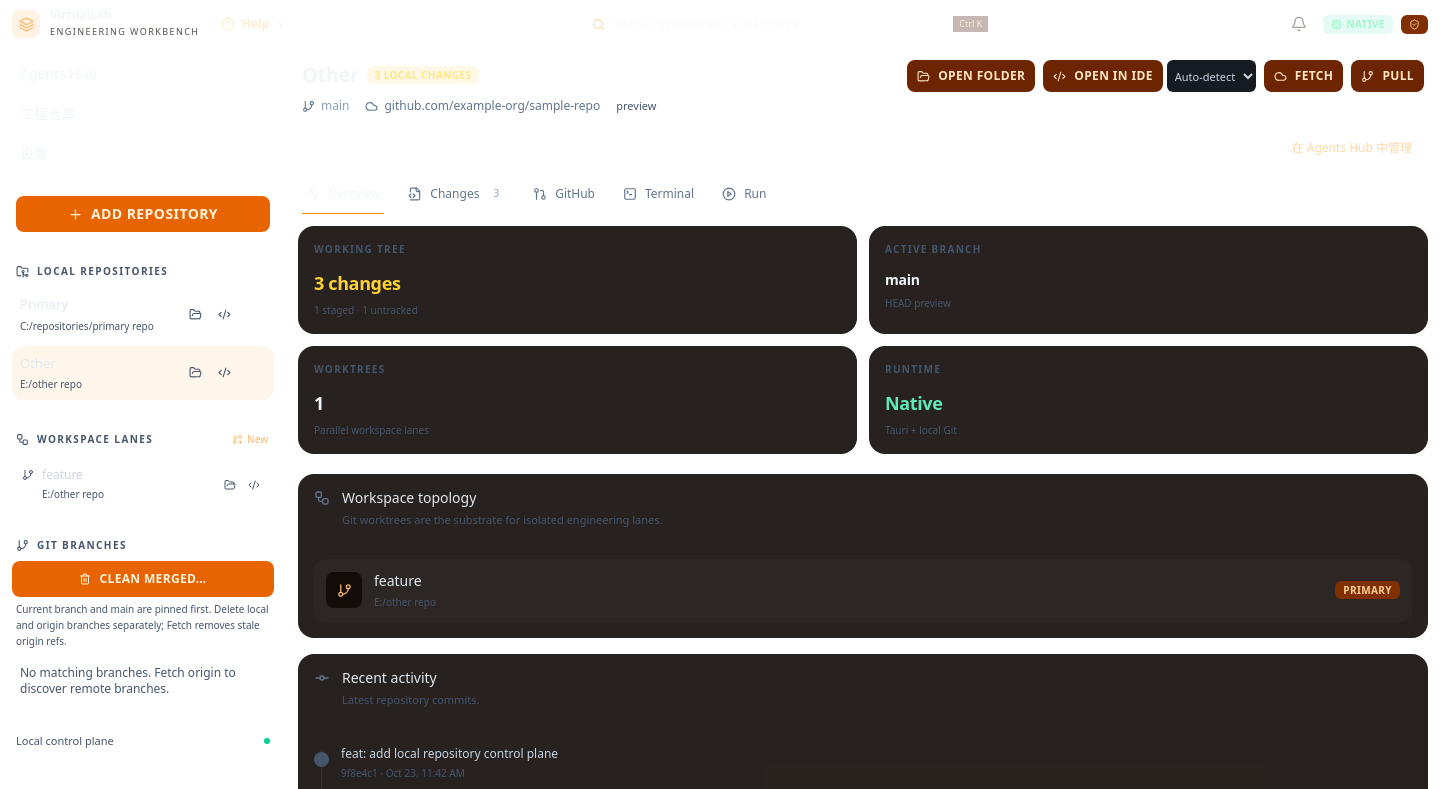
Scenario: Task terminal action through the workbench › does not start a shell merely by visiting the ordinary Terminal tab
The image size is (1440, 789).
Expected: the button "在 Agents Hub 中管理" is enabled, top-left (1280, 134), bottom-right (1424, 162)
What coordinates should you click on to do the following:
click the button "Terminal"
I would click on:
 (659, 194)
Its box is top-left (611, 174), bottom-right (706, 214).
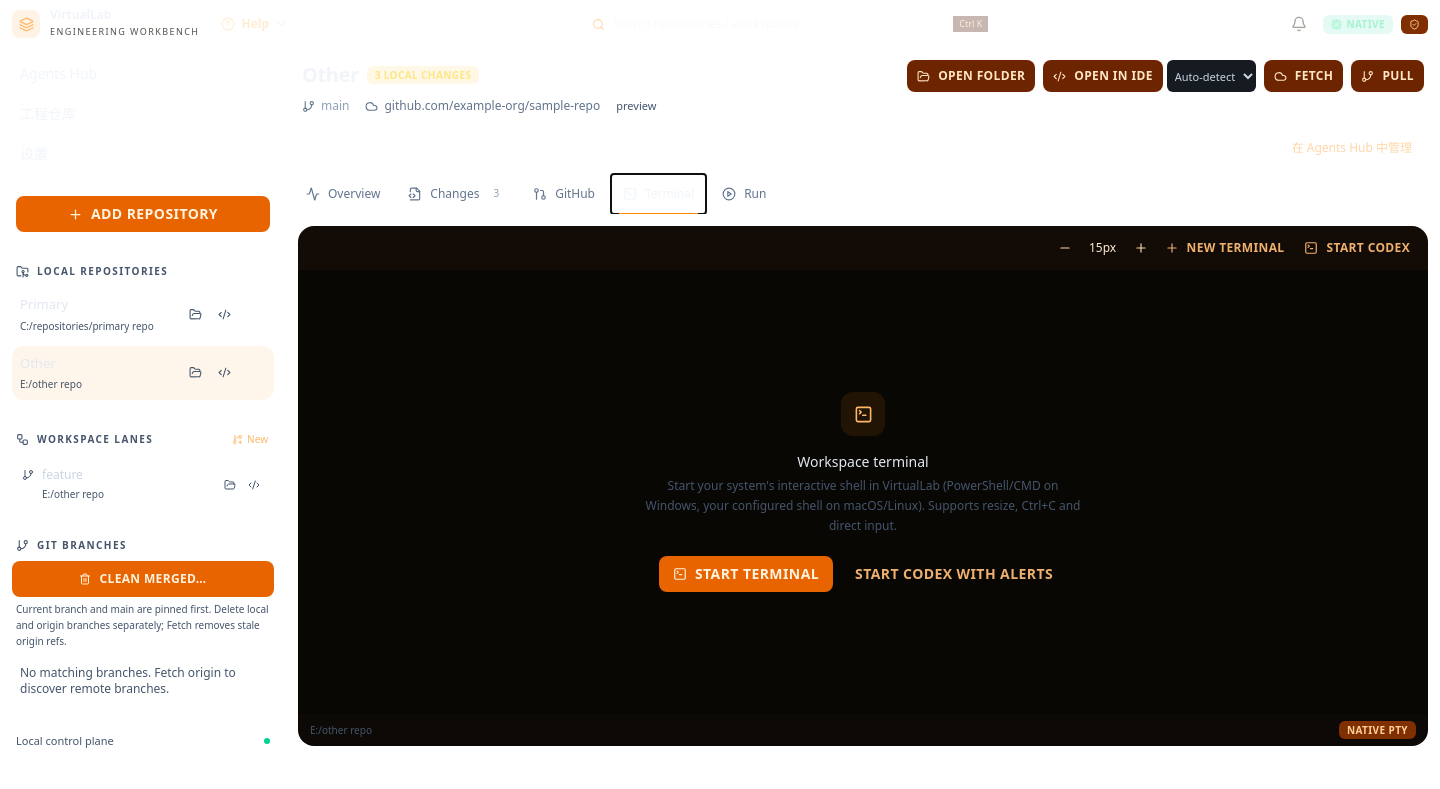
Expected: the button "Start terminal" is enabled, top-left (659, 556), bottom-right (833, 592)
